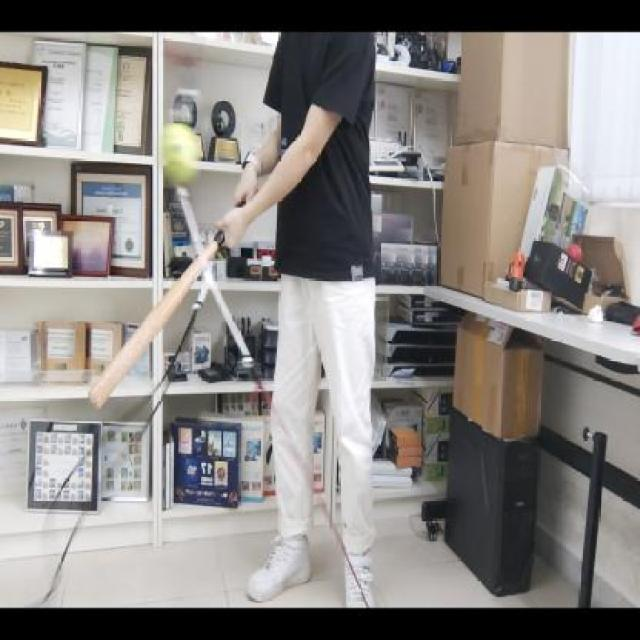baseball: (158, 122, 198, 182)
